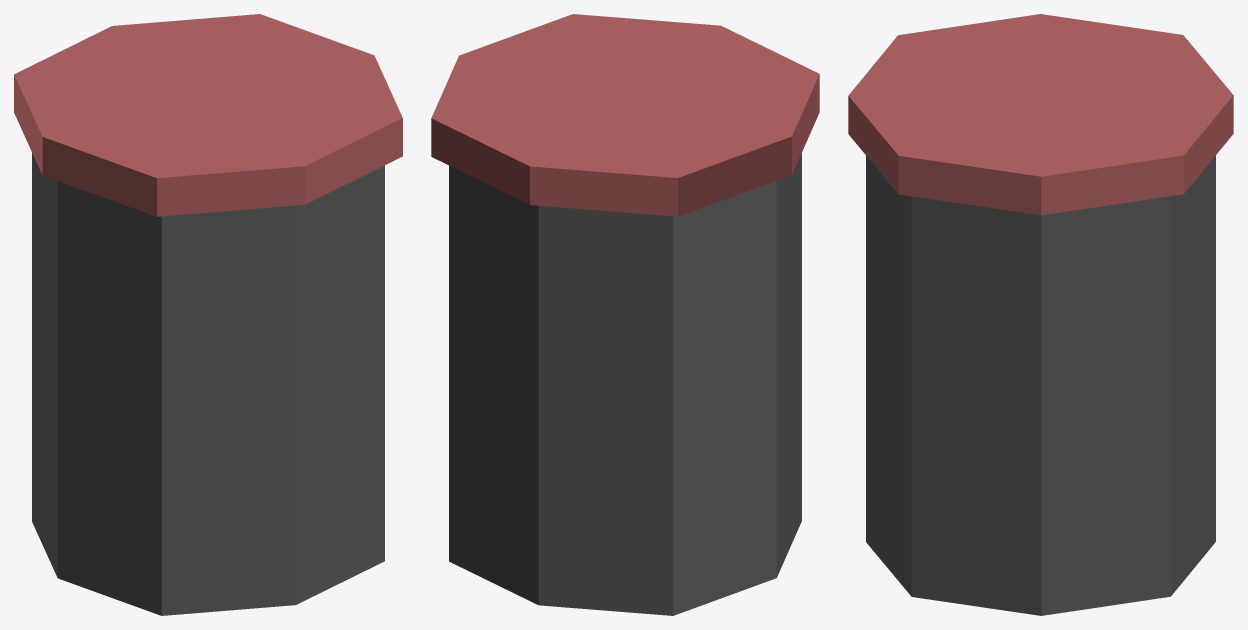
Rendered from Kitchen_Jar.fbx.
3 views of the same model, side by side, from view 1: azimuth 30°, elevation 25°; view 2: azimuth 150°, elevation 25°; view 3: azimuth 270°, elevation 25° (orthographic).
Visible parts, largest first — view 1: Kitchen_Jar; view 2: Kitchen_Jar; view 3: Kitchen_Jar.
Boxes of the visible parts, x1=… form: Kitchen_Jar: x1=14, y1=14, x2=402, y2=615; Kitchen_Jar: x1=431, y1=14, x2=819, y2=615; Kitchen_Jar: x1=848, y1=14, x2=1233, y2=615.
Size of the model in its own units: 27.94 by 35.75 by 27.94.
